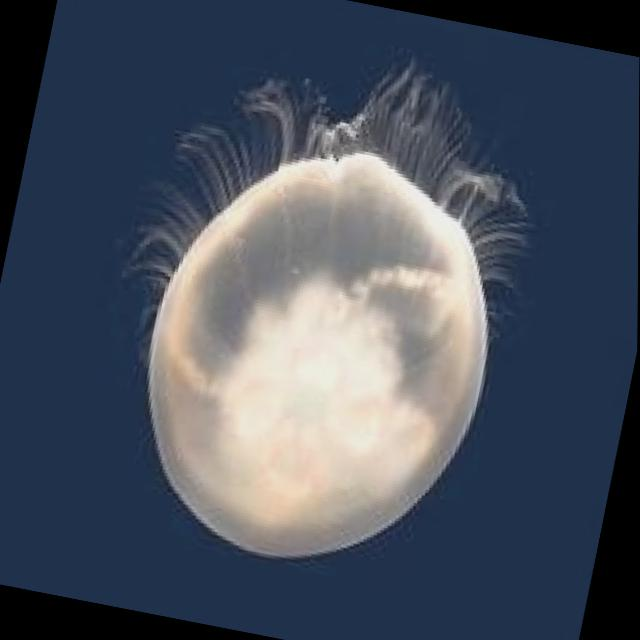Moon-jellyfish: (72, 9, 563, 594)
